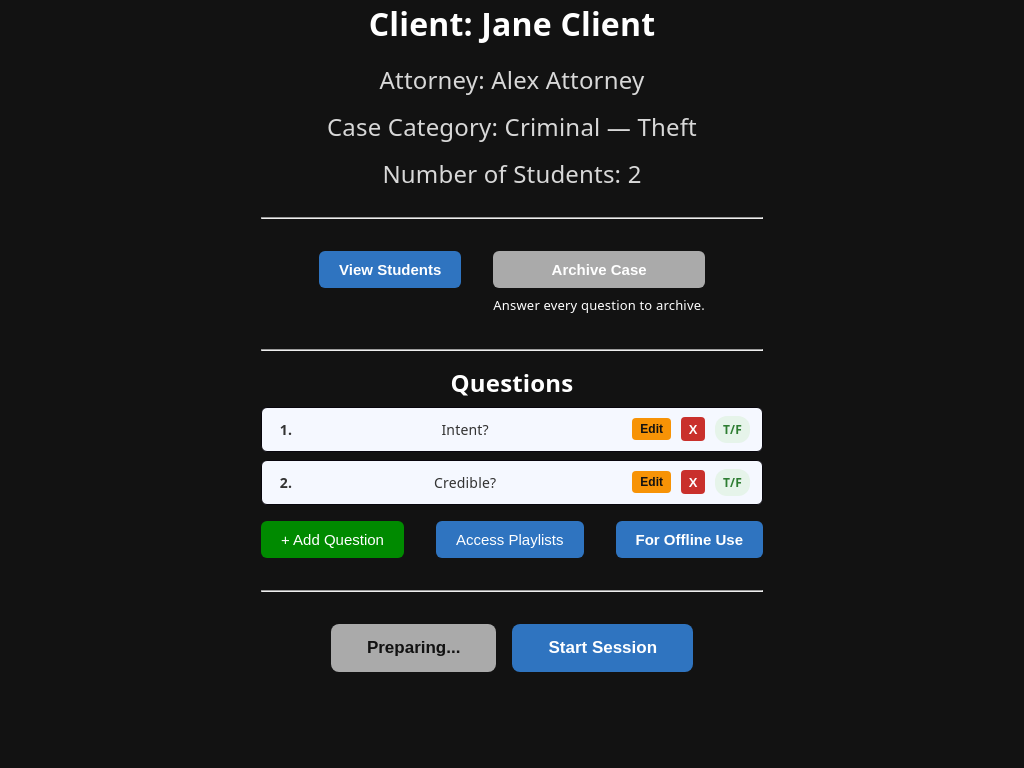
Test: CaseScreen start session › keeps the modal open with an error when the start fails
The width and height of the screenshot is (1024, 768).
(page scrolled)
What coordinates should you click on to do the following:
click the button "Start Session"
I would click on:
 (603, 648)
Its box is top-left (512, 624), bottom-right (693, 672).
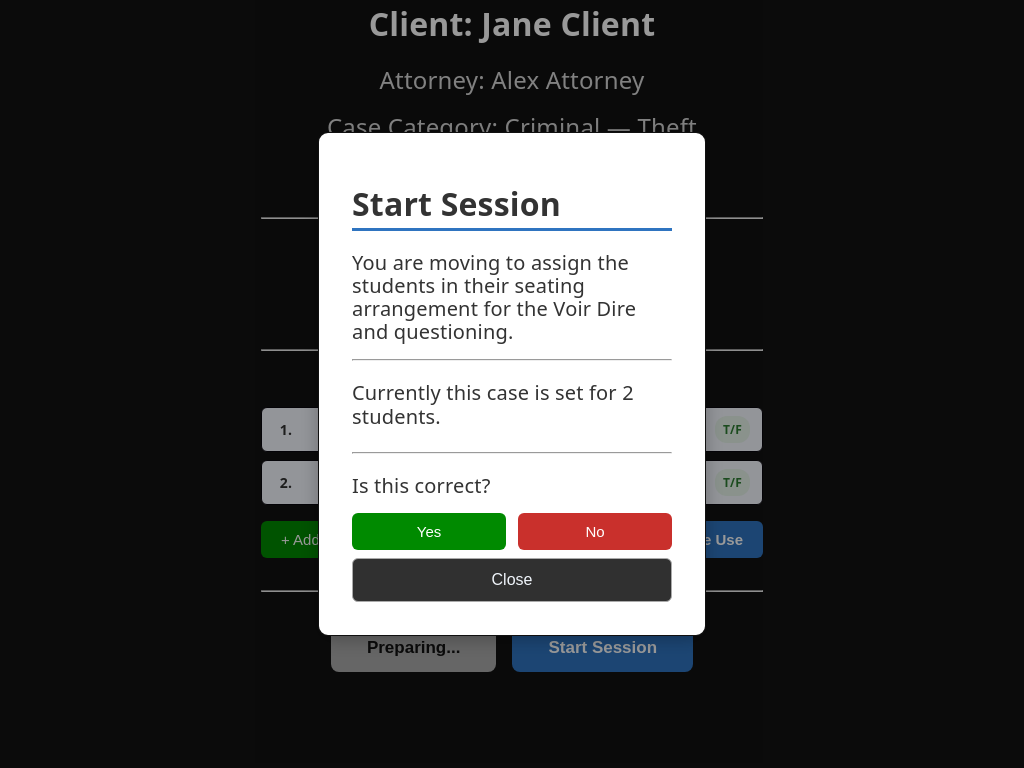
What coordinates should you click on to do the following:
click the button "Yes"
I would click on:
 (429, 532)
Its box is top-left (352, 513), bottom-right (506, 550).
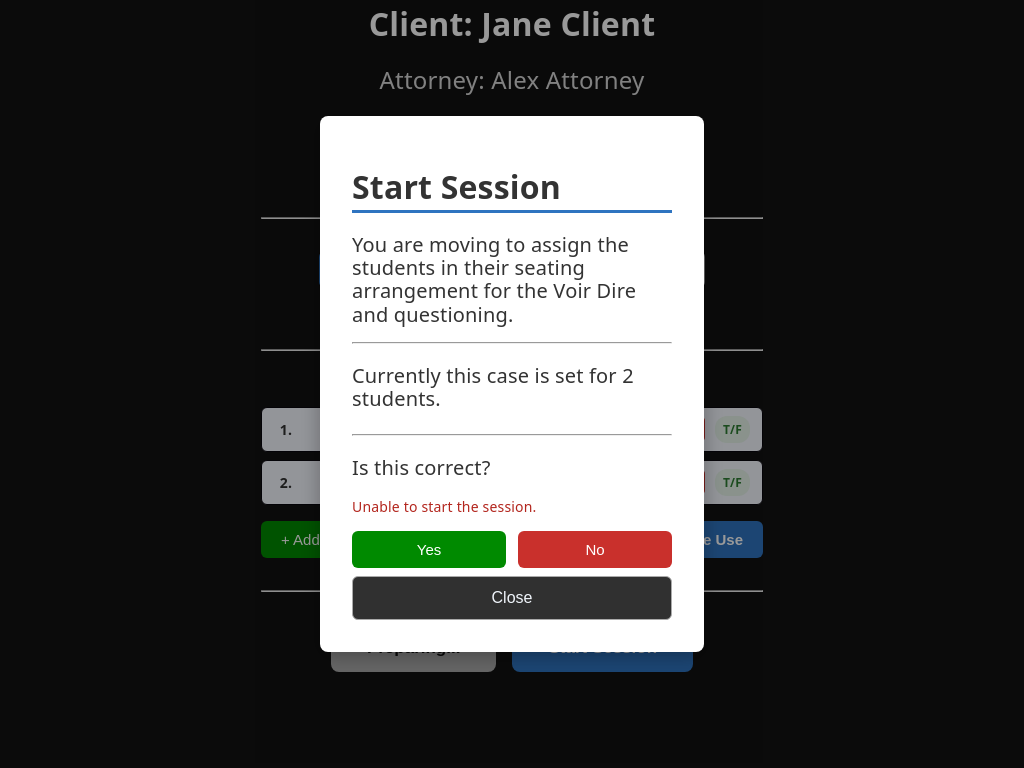
Now the button "Yes" is enabled, box top-left (352, 531), bottom-right (506, 568)
Now the text "Unable to start the session." is shown, box top-left (352, 498), bottom-right (536, 516)
